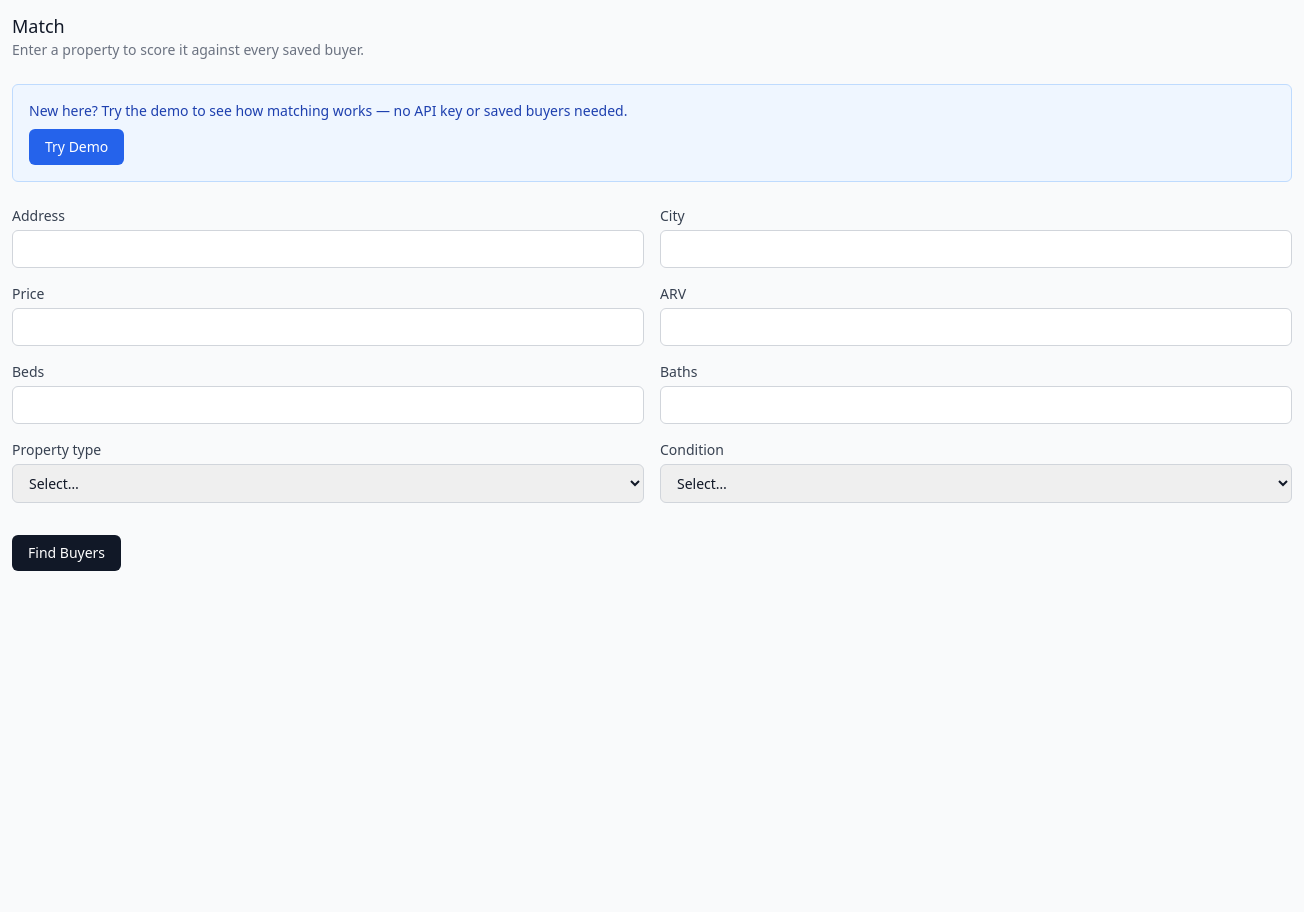
Scenario: MatchPage error/timeout state (13.12) › shows the retrieval error, retains form values, and re-enables the control
Type "123 Main St" into the field labelled "Address".
click(328, 249); type("123 Main St")  # box x1=12 y1=230 x2=644 y2=268
Type "Tampa" into the field labelled "City".
click(976, 249); type("Tampa")  # box x1=660 y1=230 x2=1292 y2=268
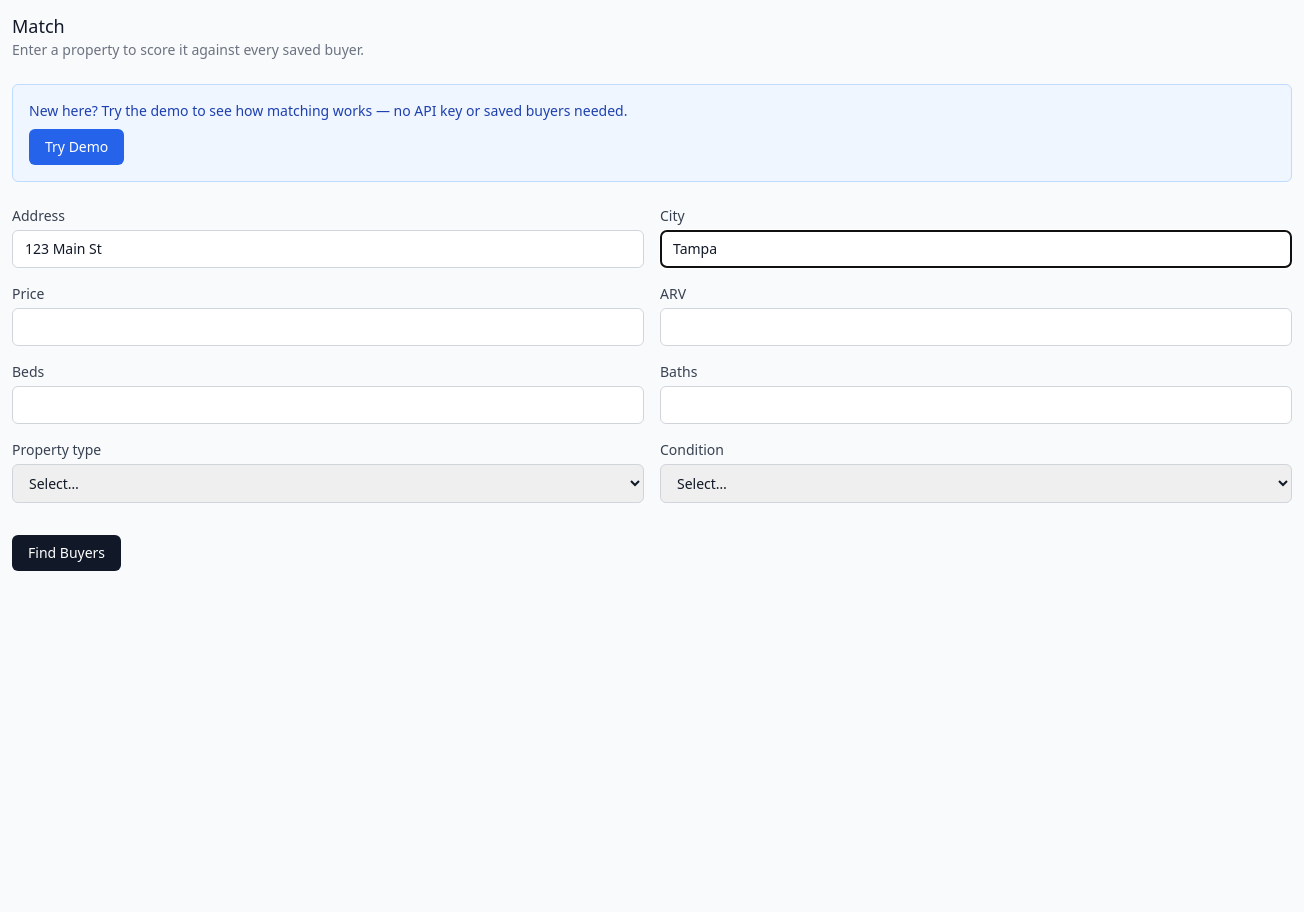
Type "150000" into the number field labelled "Price".
click(328, 327); type("150000")  # box x1=12 y1=308 x2=644 y2=346
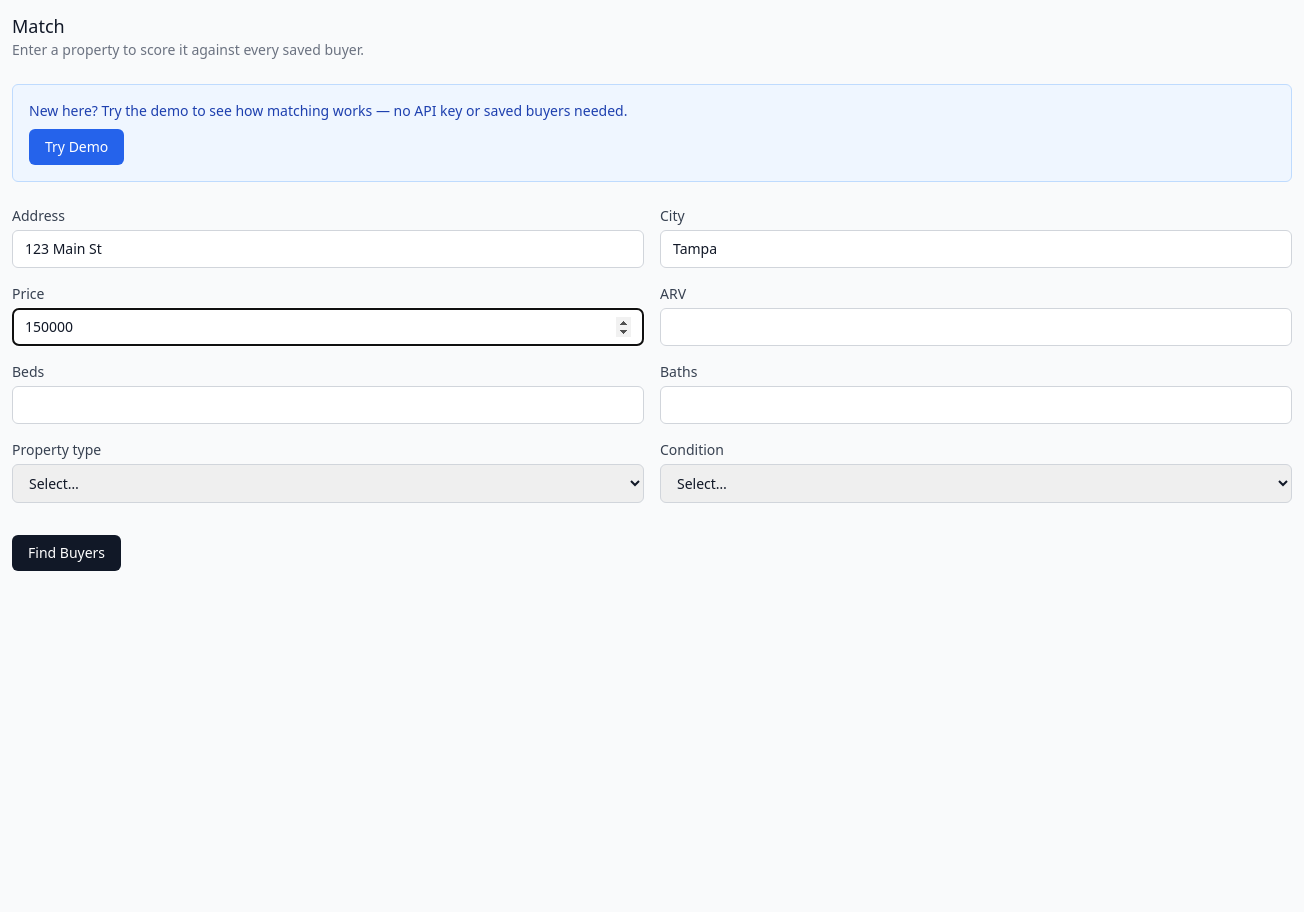
Type "200000" into the number field labelled "ARV".
click(976, 327); type("200000")  # box x1=660 y1=308 x2=1292 y2=346
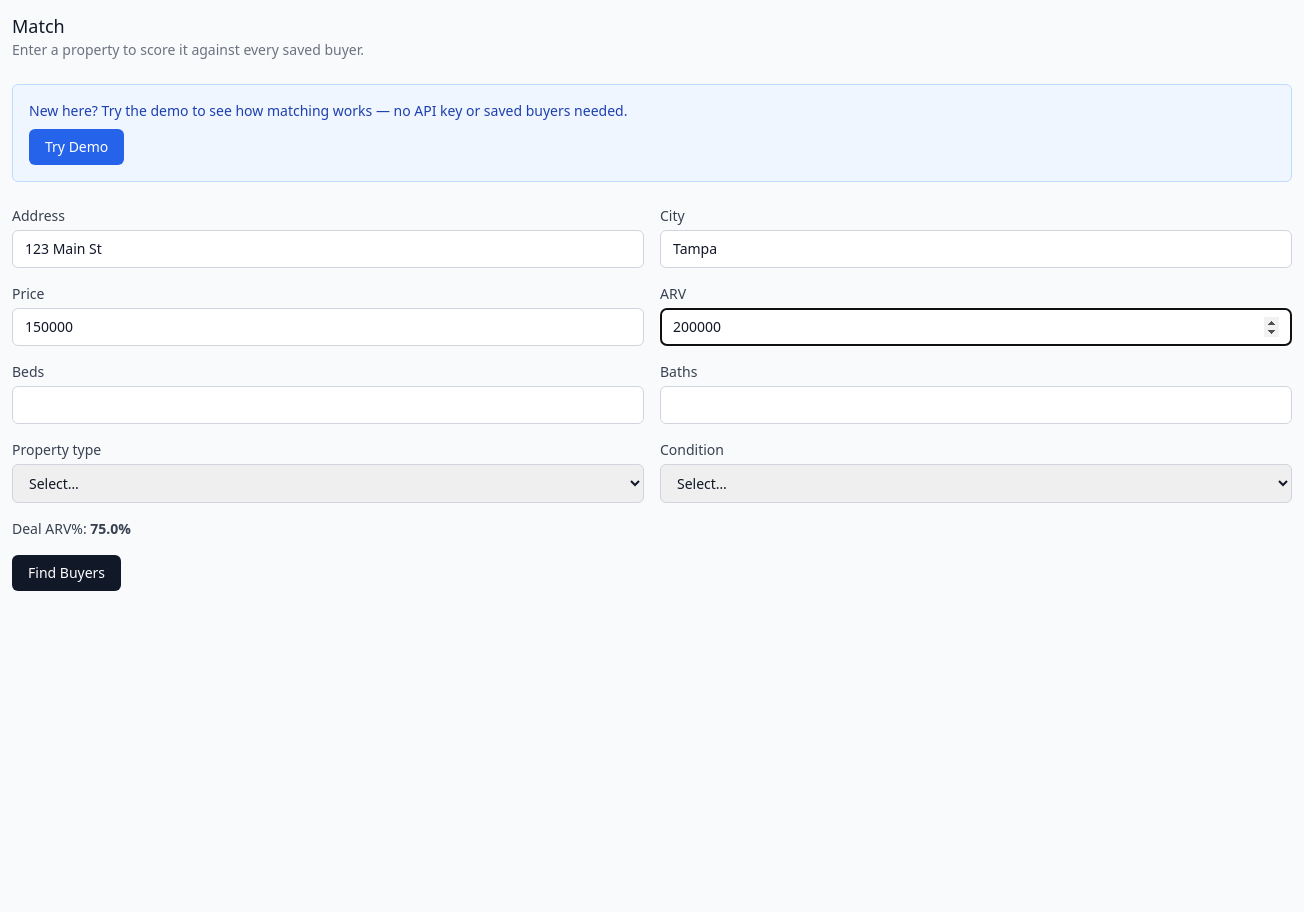
Select "Single family" in the dropdown labelled "Property type" at (328, 484), box x1=12 y1=464 x2=644 y2=503
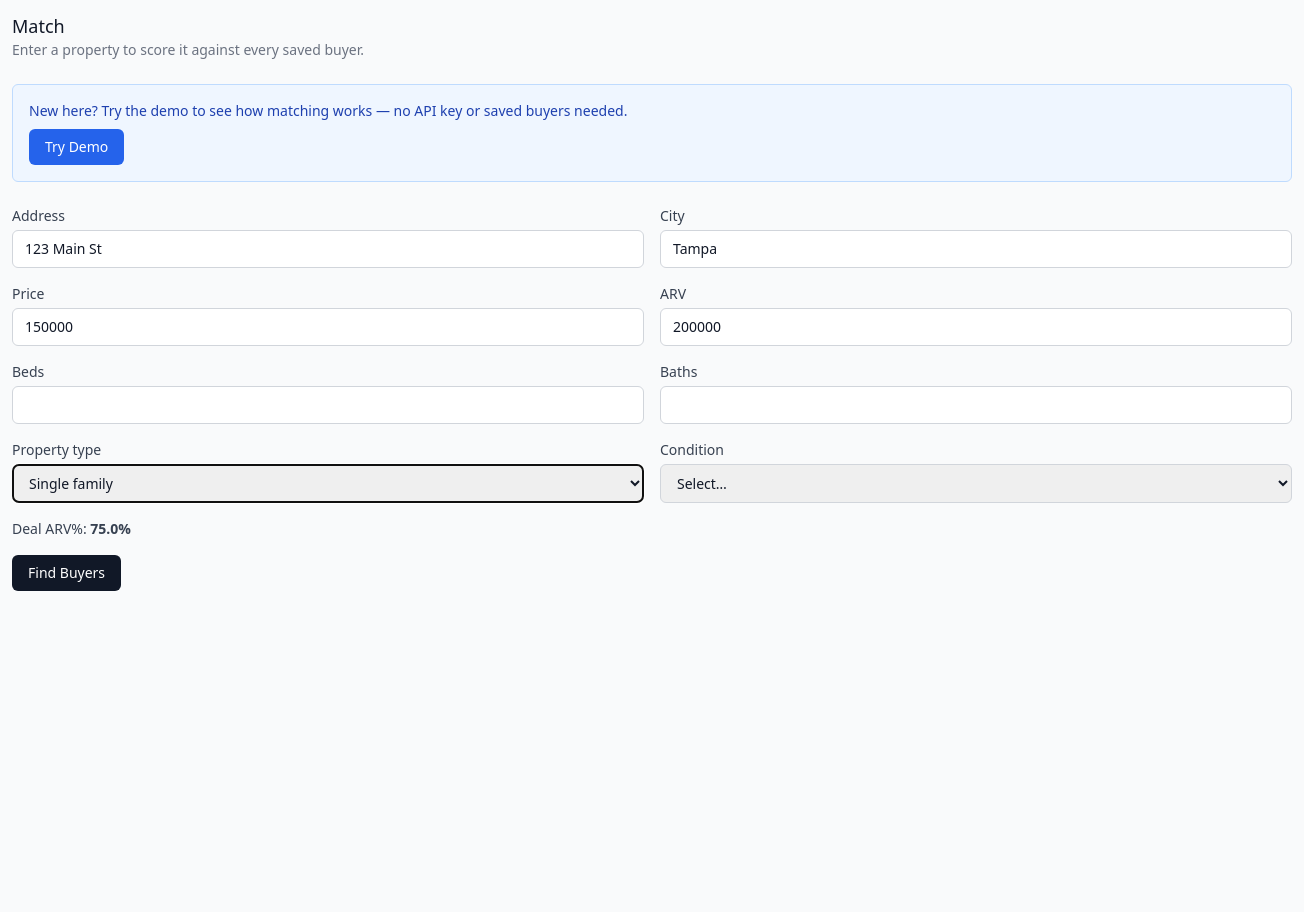
Select "Distressed" in the dropdown labelled "Condition" at (976, 484), box x1=660 y1=464 x2=1292 y2=503
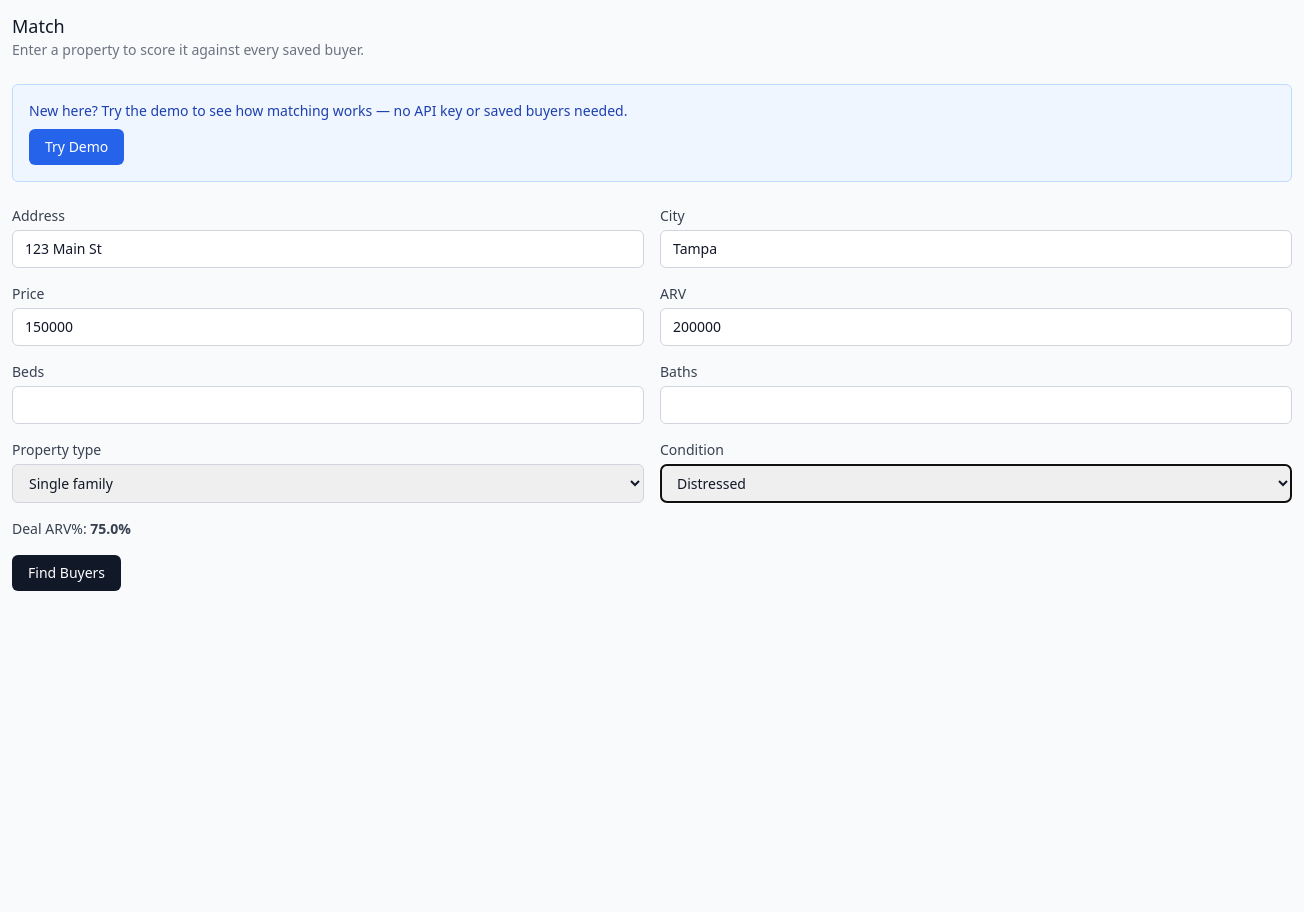
Click the button "Find Buyers".
click(67, 573)  # box x1=12 y1=555 x2=121 y2=591
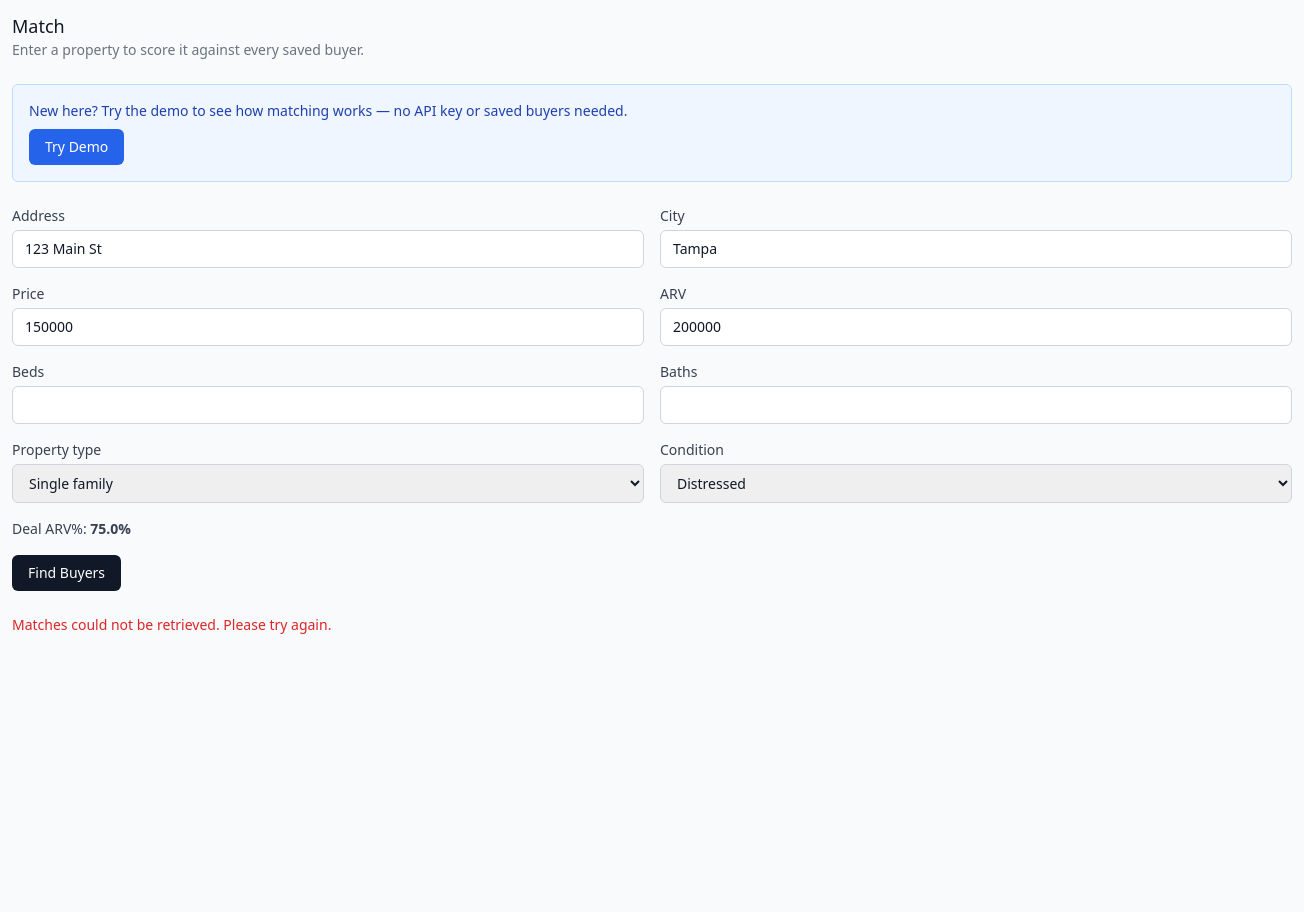
Expected: the message reads "Matches could not be retrieved. Please try again.", x1=12 y1=615 x2=331 y2=634
